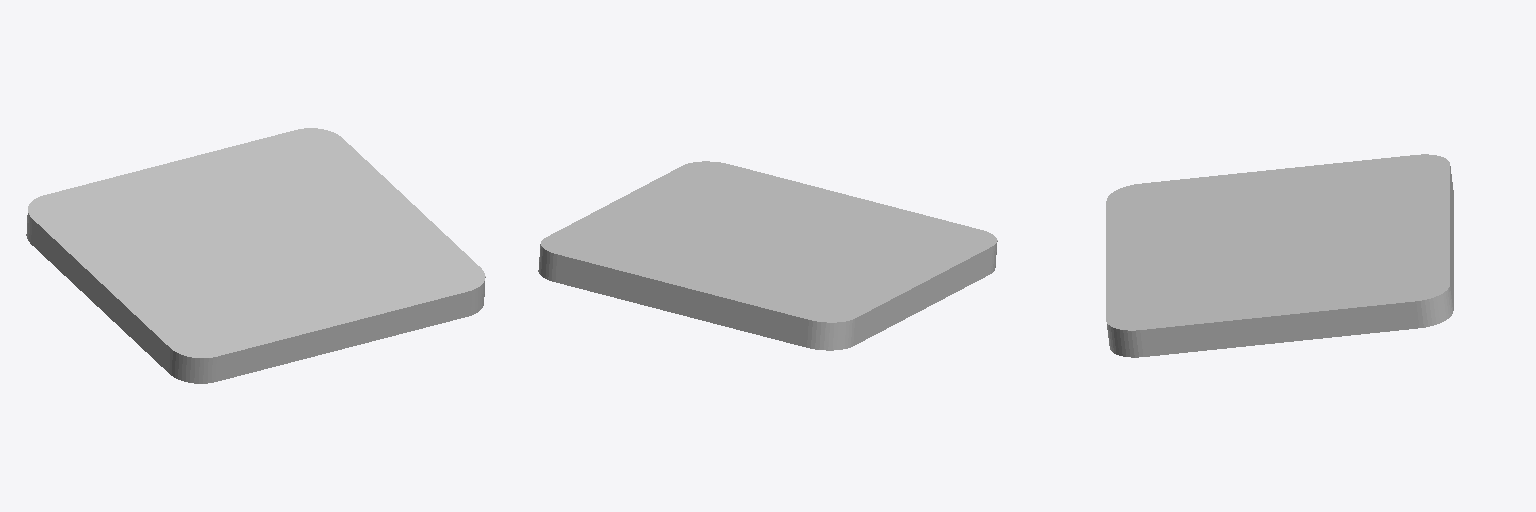
File: original-71.obj
3 renders of one model, left to right at view 1: azimuth 30°, elevation 25°; view 2: azimuth 150°, elevation 25°; view 3: azimuth 270°, elevation 25°, orthographic.
Visible parts, largest first — view 1: mesh77/mesh77-geometry#mesh77-geometry; view 2: mesh77/mesh77-geometry#mesh77-geometry; view 3: mesh77/mesh77-geometry#mesh77-geometry.
Boxes of the visible parts, <box> form: mesh77/mesh77-geometry#mesh77-geometry: <box>26,128,485,383</box>; mesh77/mesh77-geometry#mesh77-geometry: <box>538,161,997,350</box>; mesh77/mesh77-geometry#mesh77-geometry: <box>1106,154,1453,357</box>.
Size of the model in its own units: 0.0956 by 0.0196 by 0.0926.